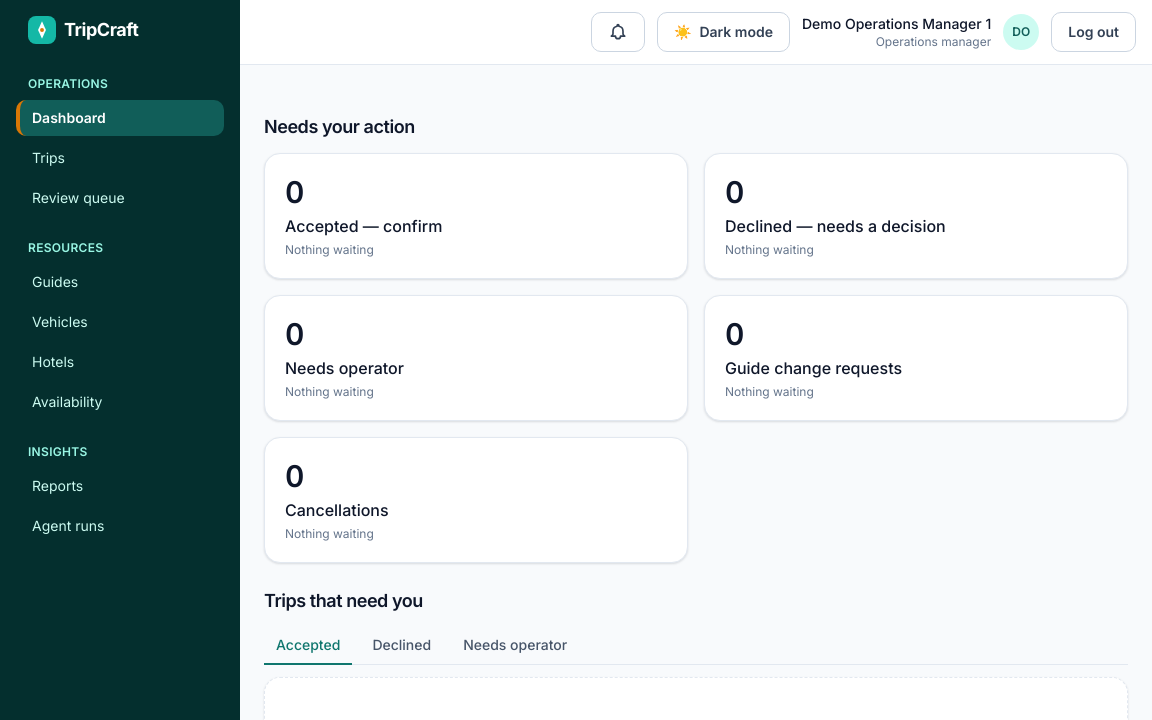
Notification bell › says when there are no notifications
What coordinates should you click on to do the following:
click the button named "Notifications, 0 unread"
I would click on:
 (618, 32)
Its box is [591, 12, 645, 52].
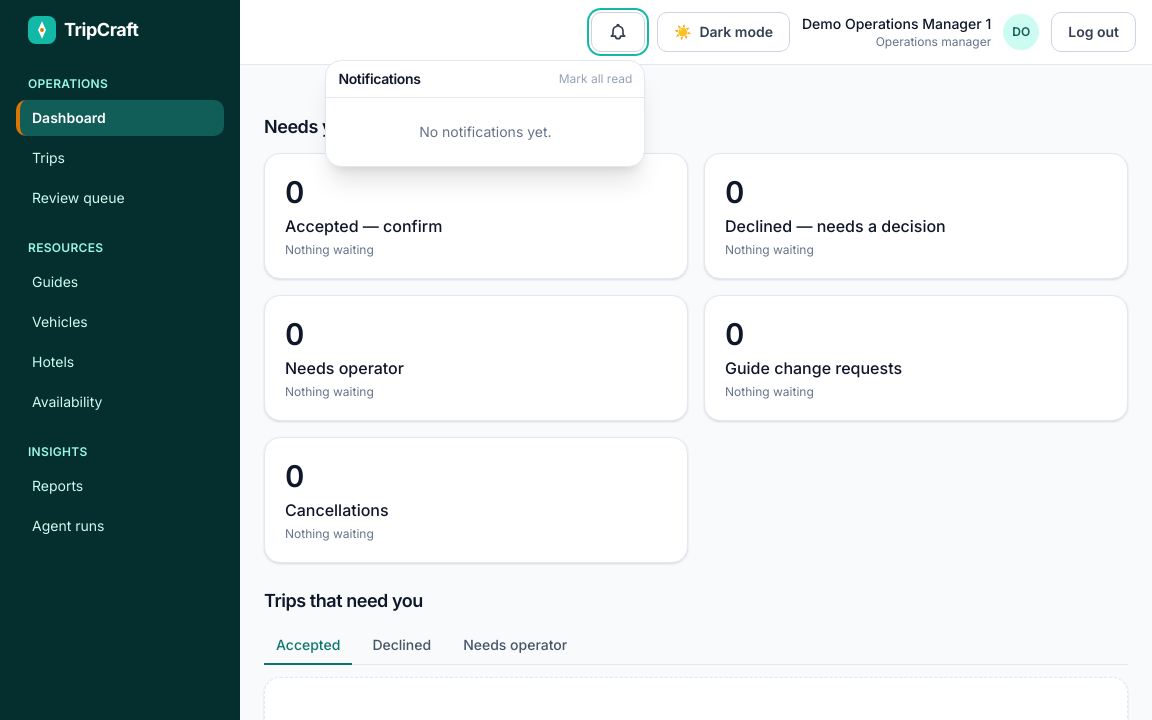
Expected: the text "No notifications yet." is shown, [419, 123, 552, 140]
Expected: the button "Mark all read" is disabled, [559, 71, 632, 87]
